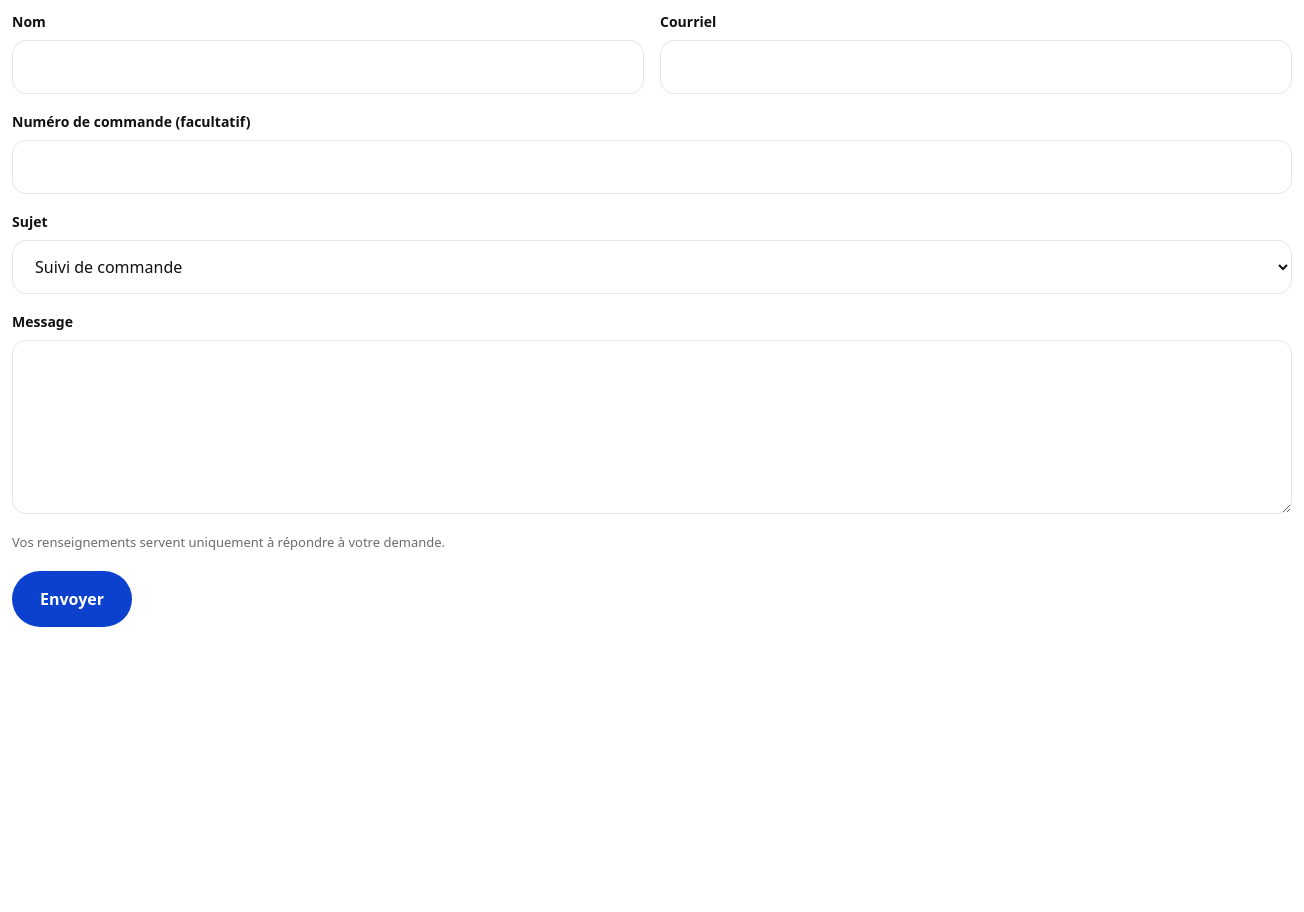
Test: FormulaireContact › signale les champs fautifs, sans rien annoncer
In the text box labelled "Message": [652, 427] box [12, 340, 1292, 514], type "court"
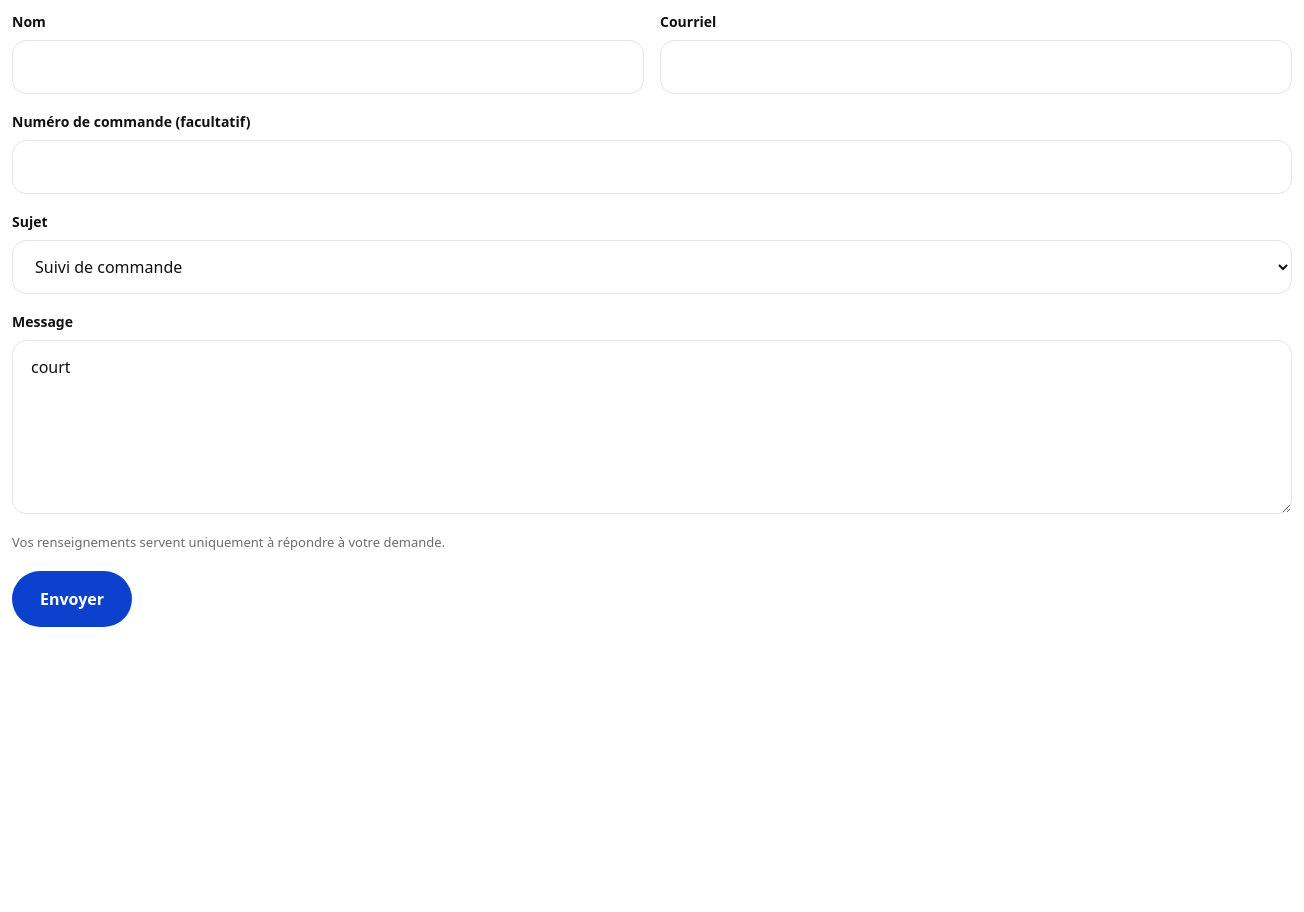
Click the button "Envoyer": [72, 599] box [12, 571, 132, 627]
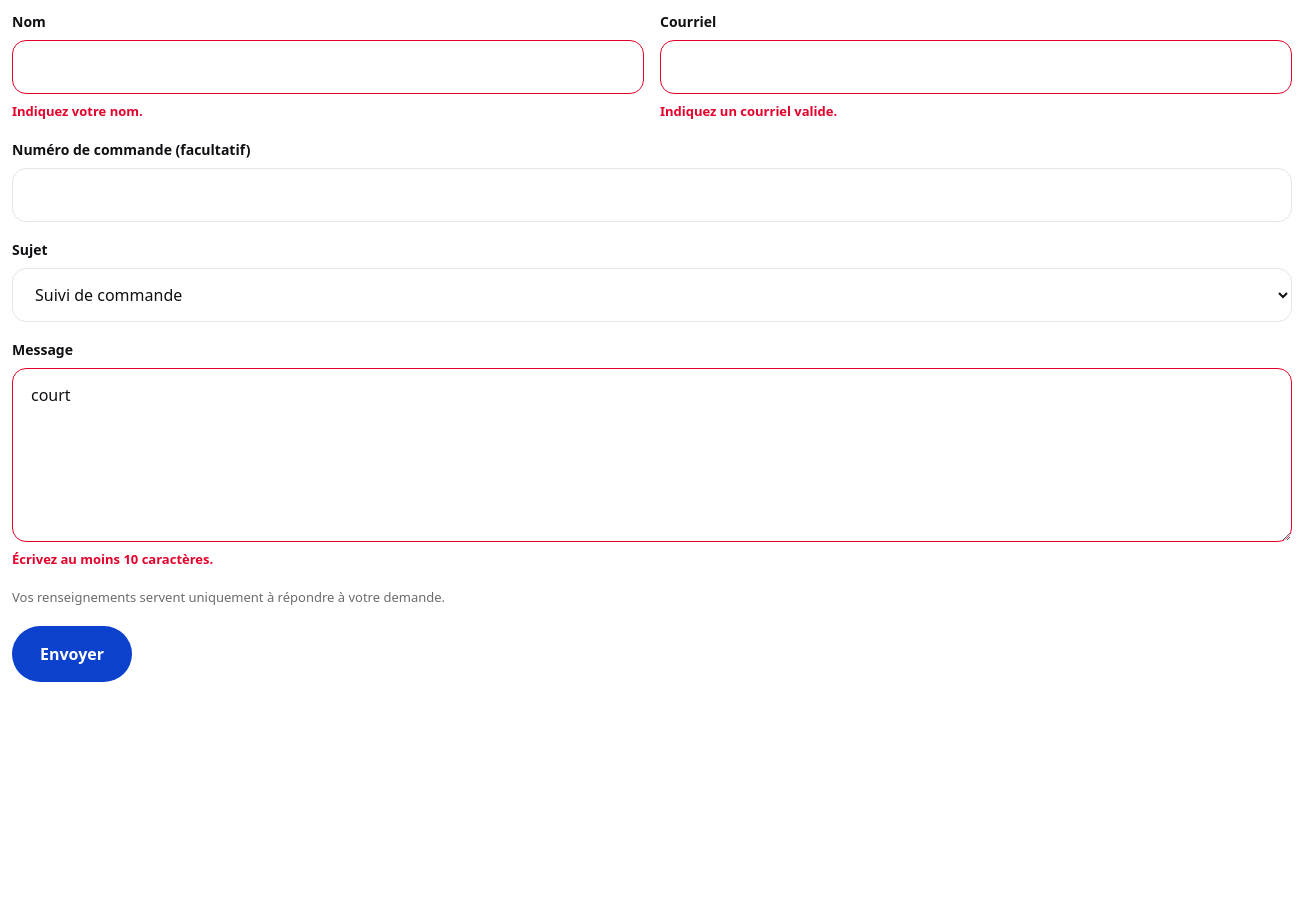
Result: the text "Indiquez votre nom." is shown at [12, 102, 143, 120]
Result: the text "Indiquez un courriel valide." is shown at [660, 102, 837, 120]
Result: the text "Écrivez au moins 10 caractères." is shown at [12, 550, 213, 568]
